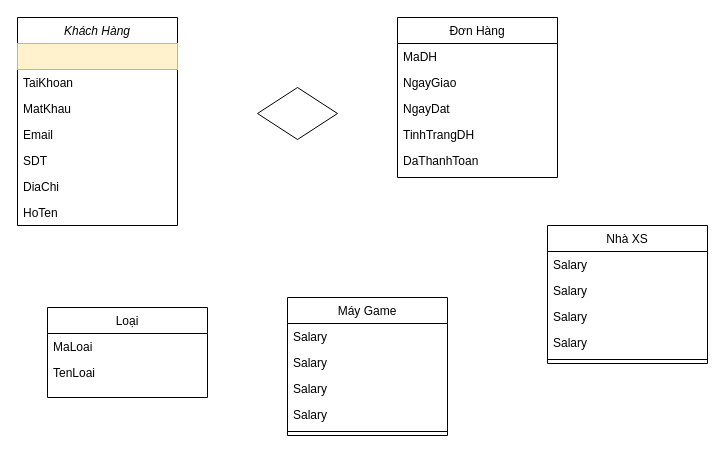
The diagram is 725 pixels wide and 453 high, and some of its shapes have lost their labels. Here are the shapes that lost their labels. From the top down, the centre of each, then its label:
At (97,56): "MaKH".
At (297,113): "Đặt".
